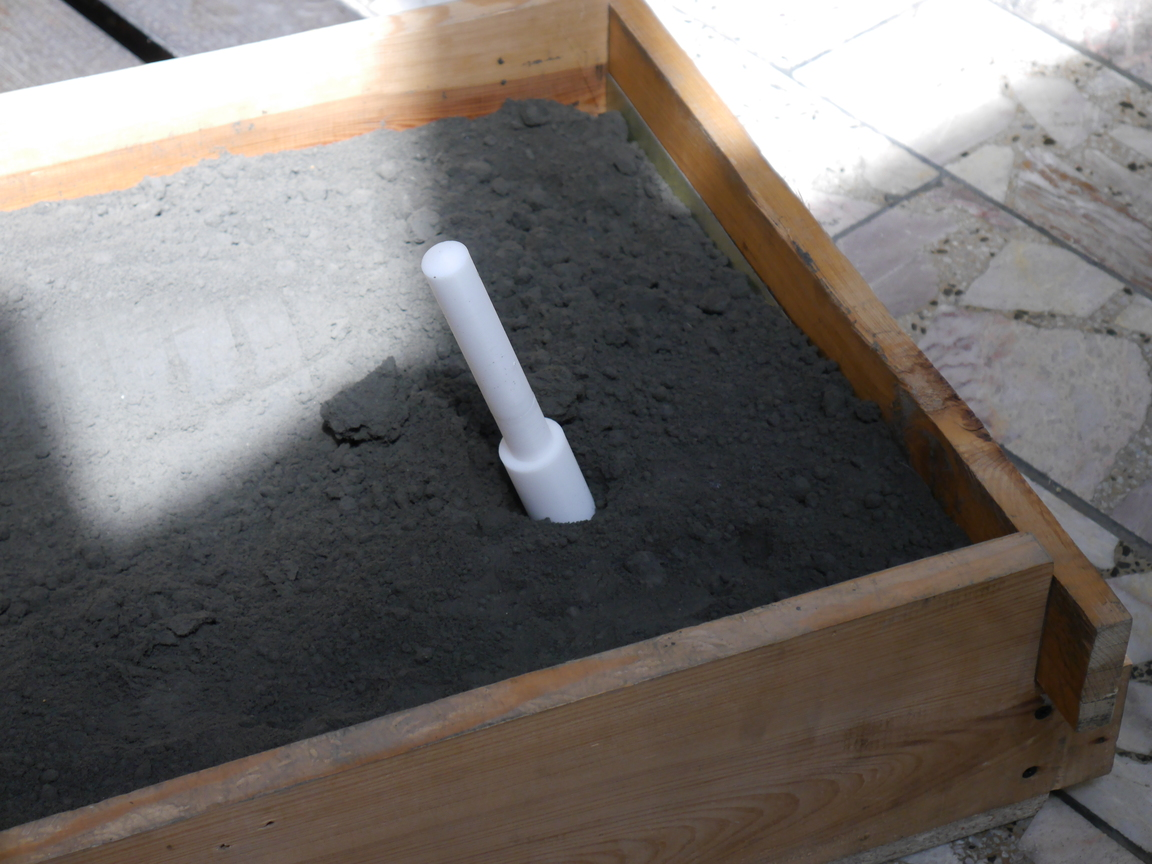cargo_g: (422, 239, 595, 527)
